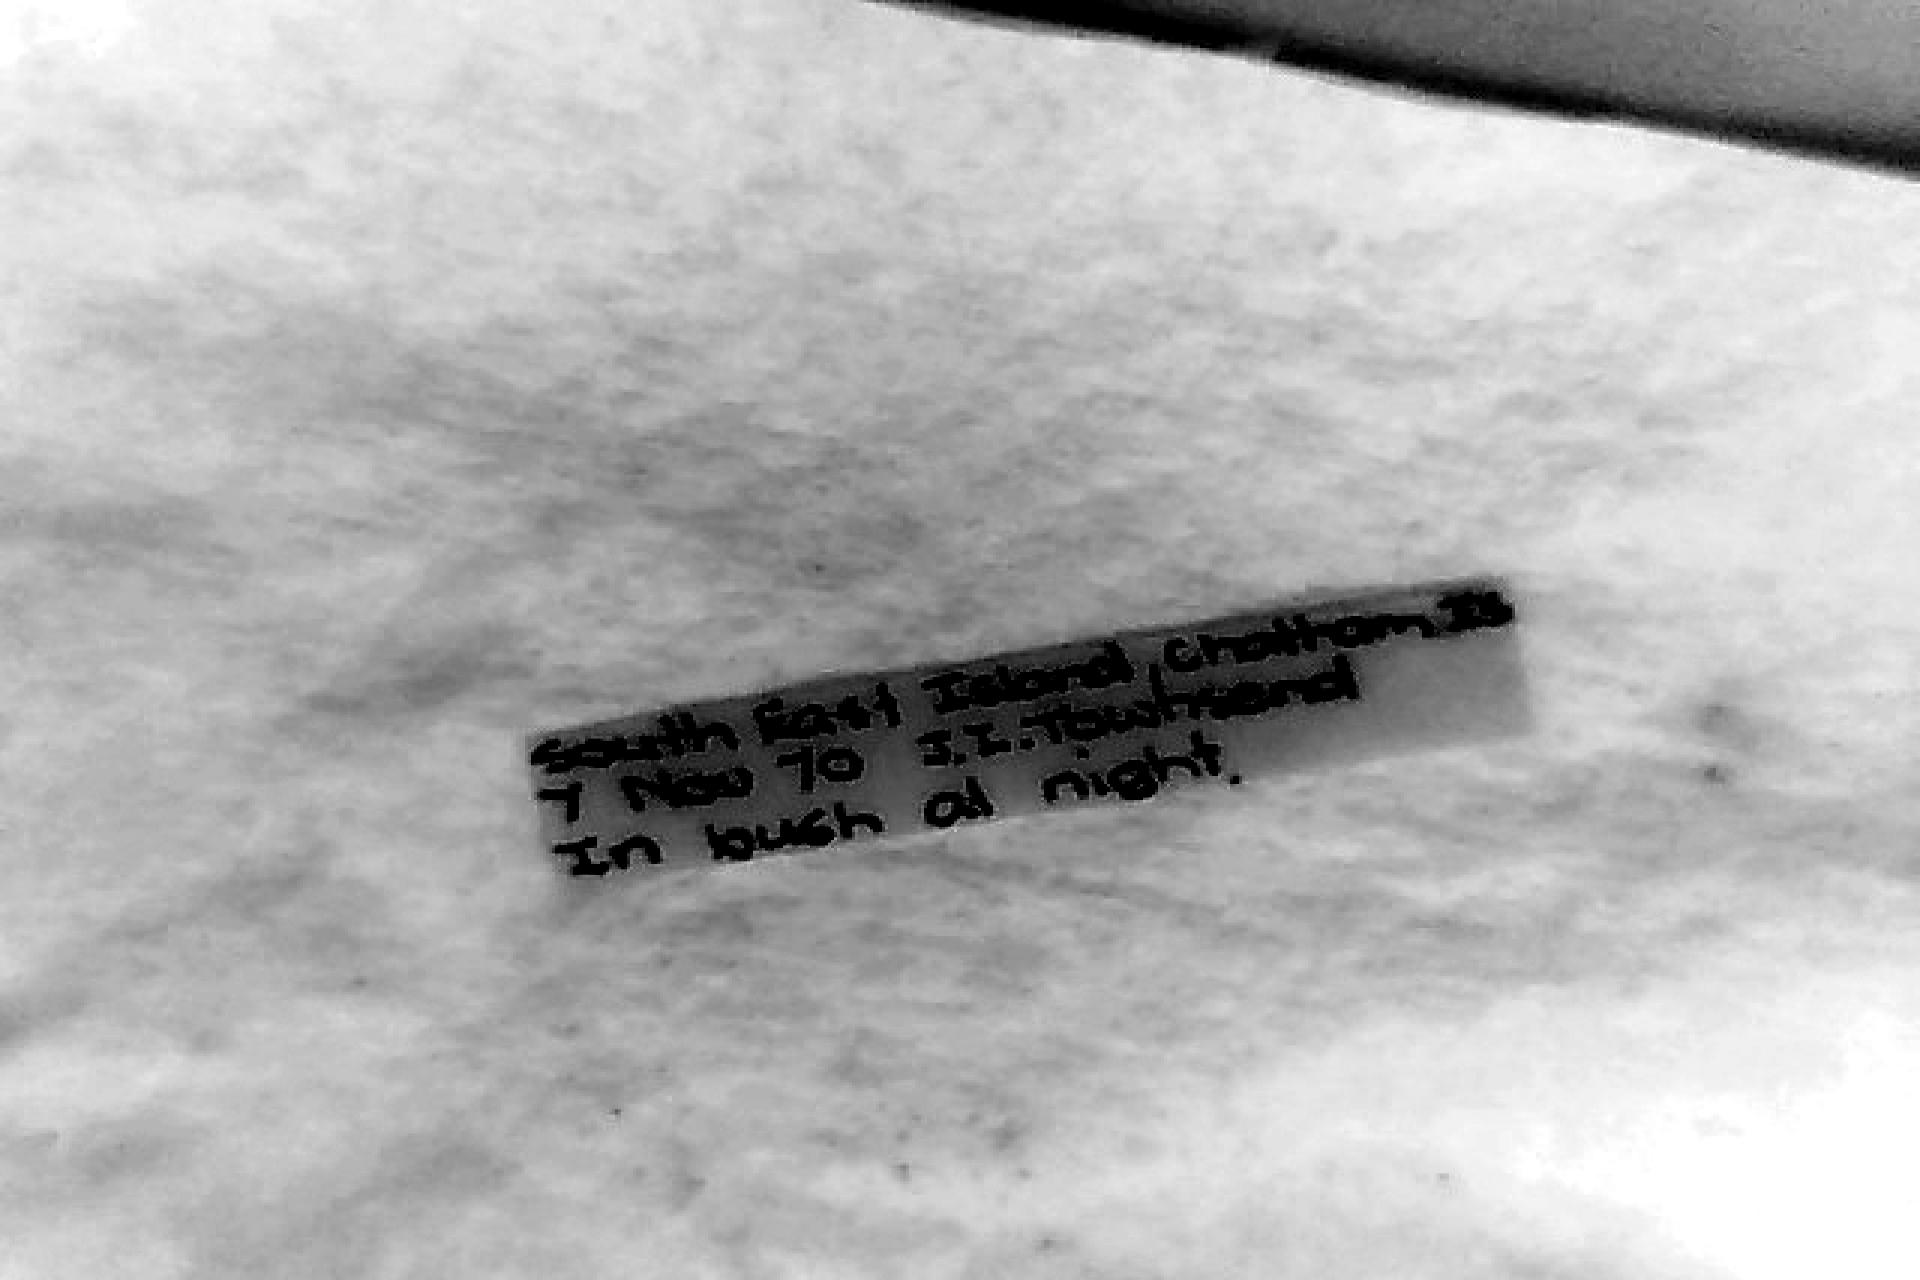hand_label: (529, 580, 1530, 877)
